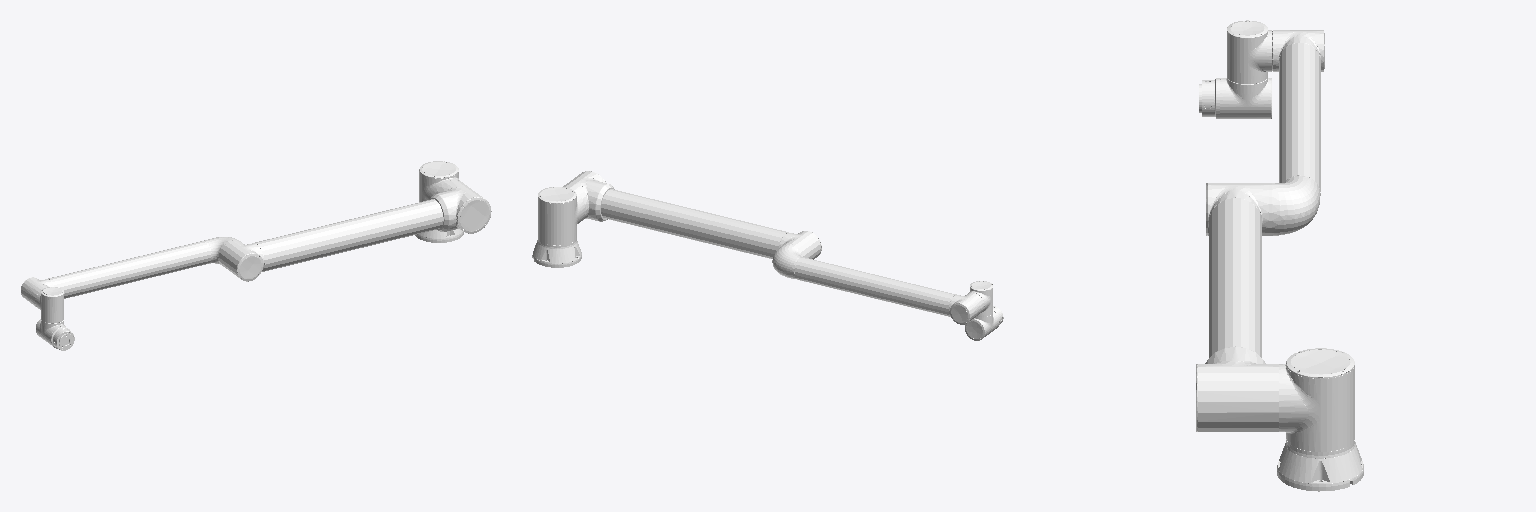
robot.urdf — FR5WML:
<?xml version="1.0" encoding="utf-8"?>
<!-- This URDF was automatically created by SolidWorks to URDF Exporter! Originally created by Stephen Brawner (brawner@gmail.com) 
     Commit Version: 1.5.1-0-g916b5db  Build Version: 1.5.7152.31018
     For more information, please see http://wiki.ros.org/sw_urdf_exporter -->
<robot
  name="FR5WML">
  <link
    name="base_link">
    <inertial>
      <origin
        xyz="-0.00017171 -0.00016075 0.041272"
        rpy="0 0 0" />
      <mass
        value="4.3824" />
      <inertia
        ixx="0.010669"
        ixy="2.9786E-05"
        ixz="-2.7211E-05"
        iyy="0.010667"
        iyz="-2.5402E-05"
        izz="0.017207" />
    </inertial>
    <visual>
      <origin
        xyz="0 0 0"
        rpy="0 0 0" />
      <geometry>
        <mesh
          filename="package://fairino_description/meshes/FR5WML/visual/base_link.dae" />
      </geometry>
      <material
        name="">
        <color
          rgba="1 1 1 1" />
      </material>
    </visual>
    <collision>
      <origin
        xyz="0 0 0"
        rpy="0 0 0" />
      <geometry>
        <mesh
          filename="package://fairino_description/meshes/FR5WML/collision/base_link.STL" />
      </geometry>
    </collision>
  </link>
  <link
    name="shoulder_Link">
    <inertial>
      <origin
        xyz="-0.00016 -0.02851 0.00416"
        rpy="0 0 0" />
      <mass
        value="11.49" />
      <inertia
        ixx="0.04363659"
        ixy="-0.00008398"
        ixz="-0.00010772"
        iyy="0.03443223"
        iyz="0.00135296"
        izz="0.0422736" />
    </inertial>
    <visual>
      <origin
        xyz="0 0 0"
        rpy="0 0 0" />
      <geometry>
        <mesh
          filename="package://fairino_description/meshes/FR5WML/visual/shoulder_Link.dae" />
      </geometry>
      <material
        name="">
        <color
          rgba="1 1 1 1" />
      </material>
    </visual>
    <collision>
      <origin
        xyz="0 0 0"
        rpy="0 0 0" />
      <geometry>
        <mesh
          filename="package://fairino_description/meshes/FR5WML/collision/shoulder_Link.STL" />
      </geometry>
    </collision>
  </link>
  <joint
    name="j1"
    type="revolute">
    <origin
      xyz="0 0 0"
      rpy="0 0 0" />
    <parent
      link="base_link" />
    <child
      link="shoulder_Link" />
    <axis
      xyz="0 0 1" />
    <limit
      lower="-3.0543"
      upper="3.0543"
      effort="635"
      velocity="3.15" />
    <calibration
      rising="0"
      falling="0" />
    <dynamics
      damping="0"
      friction="0" />
  </joint>
  <link
    name="upperarm_Link">
    <inertial>
      <origin
        xyz="0.64259 0.00004 0.16562"
        rpy="0 0 0" />
      <mass
        value="21.3" />
      <inertia
        ixx="0.06998418"
        ixy="0.00107245"
        ixz="-0.05317001"
        iyy="3.59685655"
        iyz="0.0000122"
        izz="3.58314098" />
    </inertial>
    <visual>
      <origin
        xyz="0 0 0"
        rpy="0 0 0" />
      <geometry>
        <mesh
          filename="package://fairino_description/meshes/FR5WML/visual/upperarm_Link.dae" />
      </geometry>
      <material
        name="">
        <color
          rgba="1 1 1 1" />
      </material>
    </visual>
    <collision>
      <origin
        xyz="0 0 0"
        rpy="0 0 0" />
      <geometry>
        <mesh
          filename="package://fairino_description/meshes/FR5WML/collision/upperarm_Link.STL" />
      </geometry>
    </collision>
  </link>
  <joint
    name="j2"
    type="revolute">
    <origin
      xyz="0 0 0.18"
      rpy="1.5708 0 0" />
    <parent
      link="shoulder_Link" />
    <child
      link="upperarm_Link" />
    <axis
      xyz="0 0 1" />
    <limit
      lower="-4.6251"
      upper="1.4835"
      effort="635"
      velocity="3.15" />
    <calibration
      rising="0"
      falling="0" />
    <dynamics
      damping="0"
      friction="0" />
  </joint>
  <link
    name="forearm_Link">
    <inertial>
      <origin
        xyz="0.32139 0.00016 0.05276"
        rpy="0 0 0" />
      <mass
        value="4.61" />
      <inertia
        ixx="0.00791545"
        ixy="0.00009431"
        ixz="-0.00002323"
        iyy="0.45358577"
        iyz="0.00000681"
        izz="0.45292129" />
    </inertial>
    <visual>
      <origin
        xyz="0 0 0"
        rpy="0 0 0" />
      <geometry>
        <mesh
          filename="package://fairino_description/meshes/FR5WML/visual/forearm_Link.dae" />
      </geometry>
      <material
        name="">
        <color
          rgba="1 1 1 1" />
      </material>
    </visual>
    <collision>
      <origin
        xyz="0 0 0"
        rpy="0 0 0" />
      <geometry>
        <mesh
          filename="package://fairino_description/meshes/FR5WML/collision/forearm_Link.STL" />
      </geometry>
    </collision>
  </link>
  <joint
    name="j3"
    type="revolute">
    <origin
      xyz="-0.97 0 0.045"
      rpy="0 0 0" />
    <parent
      link="upperarm_Link" />
    <child
      link="forearm_Link" />
    <axis
      xyz="0 0 1" />
    <limit
      lower="-2.8274"
      upper="2.8274"
      effort="635"
      velocity="3.15" />
    <calibration
      rising="0"
      falling="0" />
    <dynamics
      damping="0"
      friction="0" />
  </joint>
  <link
    name="wrist1_Link">
    <inertial>
      <origin
        xyz="0.00021 -0.00306 0.01307"
        rpy="0 0 0" />
      <mass
        value="1.66" />
      <inertia
        ixx="0.0023974"
        ixy="-0.00001136"
        ixz="-0.00000925"
        iyy="0.00231599"
        iyz="0.0000771"
        izz="0.00179732" />
    </inertial>
    <visual>
      <origin
        xyz="0 0 0"
        rpy="0 0 0" />
      <geometry>
        <mesh
          filename="package://fairino_description/meshes/FR5WML/visual/wrist1_Link.dae" />
      </geometry>
      <material
        name="">
        <color
          rgba="1 1 1 1" />
      </material>
    </visual>
    <collision>
      <origin
        xyz="0 0 0"
        rpy="0 0 0" />
      <geometry>
        <mesh
          filename="package://fairino_description/meshes/FR5WML/collision/wrist1_Link.STL" />
      </geometry>
    </collision>
  </link>
  <joint
    name="j4"
    type="revolute">
    <origin
      xyz="-0.816 0 0"
      rpy="0 0 0" />
    <parent
      link="forearm_Link" />
    <child
      link="wrist1_Link" />
    <axis
      xyz="0 0 1" />
    <limit
      lower="-4.6251"
      upper="1.4835"
      effort="110"
      velocity="3.2" />
    <calibration
      rising="0"
      falling="0" />
    <dynamics
      damping="0"
      friction="0" />
  </joint>
  <link
    name="wrist2_Link">
    <inertial>
      <origin
        xyz="-0.00021 0.00306 0.01307"
        rpy="0 0 0" />
      <mass
        value="1.66" />
      <inertia
        ixx="0.0023974"
        ixy="-0.00001136"
        ixz="0.00000925"
        iyy="0.00231599"
        iyz="-0.0000771"
        izz="0.00179732" />
    </inertial>
    <visual>
      <origin
        xyz="0 0 0"
        rpy="0 0 0" />
      <geometry>
        <mesh
          filename="package://fairino_description/meshes/FR5WML/visual/wrist2_Link.dae" />
      </geometry>
      <material
        name="">
        <color
          rgba="1 1 1 1" />
      </material>
    </visual>
    <collision>
      <origin
        xyz="0 0 0"
        rpy="0 0 0" />
      <geometry>
        <mesh
          filename="package://fairino_description/meshes/FR5WML/collision/wrist2_Link.STL" />
      </geometry>
    </collision>
  </link>
  <joint
    name="j5"
    type="revolute">
    <origin
      xyz="0 0 0.114"
      rpy="-1.5708 0 3.1416" />
    <parent
      link="wrist1_Link" />
    <child
      link="wrist2_Link" />
    <axis
      xyz="0 0 1" />
    <limit
      lower="-3.0543"
      upper="3.0543"
      effort="110"
      velocity="3.2" />
    <calibration
      rising="0"
      falling="0" />
    <dynamics
      damping="0"
      friction="0" />
  </joint>
  <link
    name="wrist3_Link">
    <inertial>
      <origin
        xyz="0.00145 0.00109 -0.01998"
        rpy="0 0 0" />
      <mass
        value="0.36" />
      <inertia
        ixx="0.00023004"
        ixy="0.00000109"
        ixz="-0.00000007"
        iyy="0.0002307"
        iyz="0.00000018"
        izz="0.00036173" />
    </inertial>
    <visual>
      <origin
        xyz="0 0 0"
        rpy="0 0 0" />
      <geometry>
        <mesh
          filename="package://fairino_description/meshes/FR5WML/visual/wrist3_Link.dae" />
      </geometry>
      <material
        name="">
        <color
          rgba="1 1 1 1" />
      </material>
    </visual>
    <collision>
      <origin
        xyz="0 0 0"
        rpy="0 0 0" />
      <geometry>
        <mesh
          filename="package://fairino_description/meshes/FR5WML/collision/wrist3_Link.STL" />
      </geometry>
    </collision>
  </link>
  <joint
    name="j6"
    type="revolute">
    <origin
      xyz="0 0 0.114"
      rpy="-1.5708 0 -3.1416" />
    <parent
      link="wrist2_Link" />
    <child
      link="wrist3_Link" />
    <axis
      xyz="0 0 1" />
    <limit
      lower="-6.2831"
      upper="6.2831"
      effort="110"
      velocity="3.2" />
    <calibration
      rising="0"
      falling="0" />
    <dynamics
      damping="0"
      friction="0" />
  </joint>
</robot>

--- What the picture shows (computed from the rendered views, not written in the file) ---
The picture shows the robot from 3 angles, left to right: view 1: azimuth 30°, elevation 25°; view 2: azimuth 150°, elevation 25°; view 3: azimuth 270°, elevation 25°; orthographic projection.
Robot: FR5WML — 7 links, 6 joints (6 revolute); root link base_link; default pose: every joint at zero.
Visible links, largest first — view 1: upperarm_Link, forearm_Link, shoulder_Link, wrist1_Link; view 2: upperarm_Link, forearm_Link, shoulder_Link, base_link, wrist2_Link; view 3: upperarm_Link, forearm_Link, shoulder_Link, base_link, wrist1_Link, wrist2_Link, wrist3_Link.
Boxes of the visible links, x1,y1,x2,y2 form: upperarm_Link: (219,180,491,281); forearm_Link: (21,237,238,306); shoulder_Link: (419,161,459,201); wrist1_Link: (35,287,63,323); upperarm_Link: (563,171,821,259); forearm_Link: (772,244,984,324); shoulder_Link: (538,187,585,245); base_link: (532,239,581,267); wrist2_Link: (965,311,998,340); upperarm_Link: (1196,183,1278,431); forearm_Link: (1269,30,1324,235); shoulder_Link: (1279,348,1354,451); base_link: (1277,439,1363,491); wrist1_Link: (1227,20,1271,83); wrist2_Link: (1220,78,1271,118); wrist3_Link: (1199,78,1219,118).
Size in the robot's own frame: 1.93 by 0.3667 by 0.2667 metres.
7 mesh visuals loaded from 7 distinct referenced files (7 Collada DAE).
